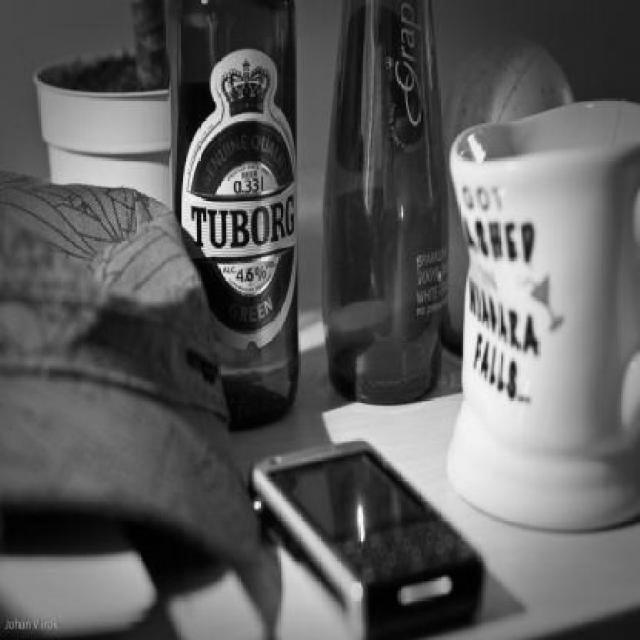fake: (236, 424, 506, 640)
